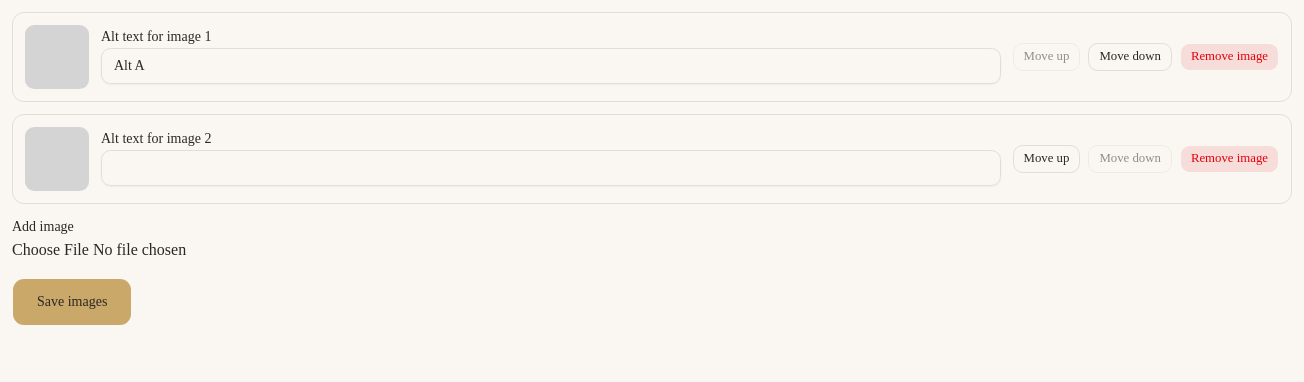
Scenario: ImageManager › edit mode: Save is blocked with an inline message while any alt is blank
Click the button "Save images" at (72, 302), box [12, 278, 132, 326]
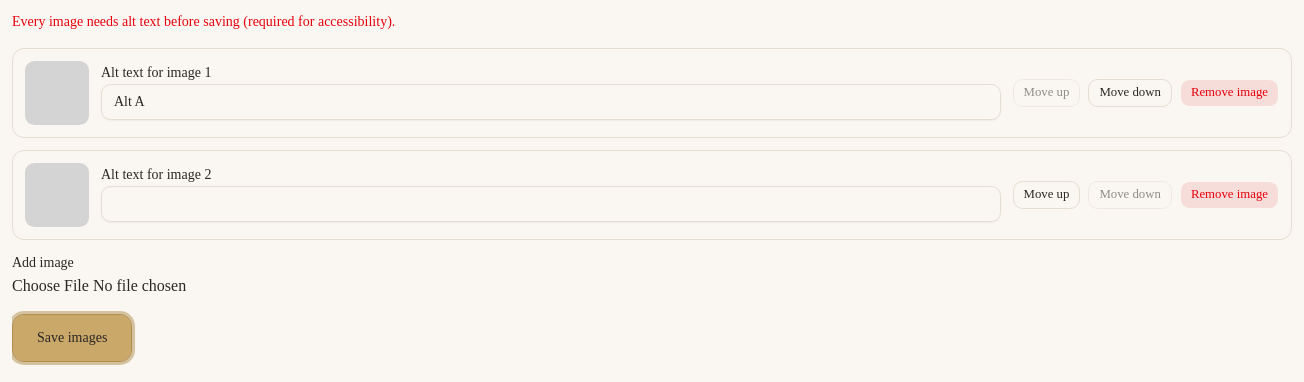
Expected: the message "Every image needs alt text before saving (required for accessibility)." is shown, [12, 14, 395, 29]
